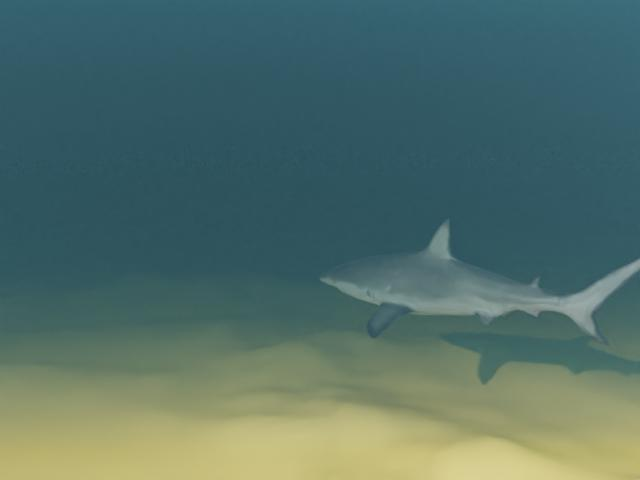Carribean Shark.001: (319, 218, 640, 345)
